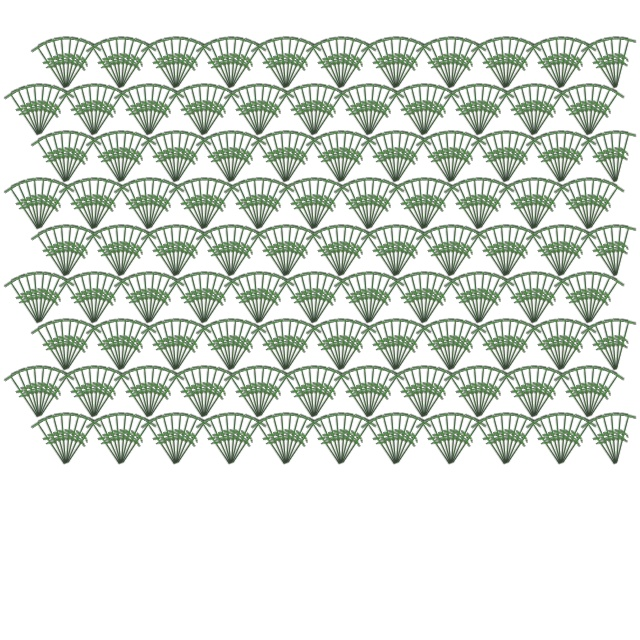fan: (29, 39, 75, 95), (59, 39, 105, 95), (84, 39, 130, 95), (114, 39, 160, 95), (139, 39, 185, 95), (169, 39, 215, 95), (194, 39, 240, 95), (224, 39, 270, 95), (249, 39, 295, 95), (279, 39, 325, 95), (304, 39, 350, 95), (334, 39, 380, 95), (359, 39, 405, 95), (389, 39, 435, 95), (414, 39, 460, 95), (444, 39, 490, 95), (469, 39, 515, 95), (499, 39, 545, 95), (524, 39, 570, 95), (554, 39, 600, 95), (579, 39, 625, 95), (2, 86, 48, 142), (32, 86, 78, 142), (57, 86, 103, 142), (87, 86, 133, 142), (112, 86, 158, 142), (142, 86, 188, 142), (167, 86, 213, 142), (197, 86, 243, 142), (222, 86, 268, 142), (252, 86, 298, 142), (277, 86, 323, 142), (307, 86, 353, 142), (332, 86, 378, 142), (362, 86, 408, 142), (387, 86, 433, 142), (417, 86, 463, 142), (442, 86, 488, 142), (472, 86, 518, 142), (497, 86, 543, 142), (527, 86, 573, 142), (552, 86, 598, 142), (582, 86, 628, 142), (29, 133, 75, 189), (59, 133, 105, 189), (84, 133, 130, 189), (114, 133, 160, 189), (139, 133, 185, 189), (169, 133, 215, 189), (194, 133, 240, 189), (224, 133, 270, 189), (249, 133, 295, 189), (279, 133, 325, 189), (304, 133, 350, 189), (334, 133, 380, 189), (359, 133, 405, 189), (389, 133, 435, 189), (414, 133, 460, 189), (444, 133, 490, 189), (469, 133, 515, 189), (499, 133, 545, 189), (524, 133, 570, 189), (554, 133, 600, 189), (579, 133, 625, 189), (2, 180, 48, 236), (32, 180, 78, 236), (57, 180, 103, 236), (87, 180, 133, 236), (112, 180, 158, 236), (142, 180, 188, 236), (167, 180, 213, 236), (197, 180, 243, 236), (222, 180, 268, 236), (252, 180, 298, 236), (277, 180, 323, 236), (307, 180, 353, 236), (332, 180, 378, 236), (362, 180, 408, 236), (387, 180, 433, 236), (417, 180, 463, 236), (442, 180, 488, 236), (472, 180, 518, 236), (497, 180, 543, 236), (527, 180, 573, 236), (552, 180, 598, 236), (582, 180, 628, 236), (29, 227, 75, 283), (59, 227, 105, 283), (84, 227, 130, 283), (114, 227, 160, 283), (139, 227, 185, 283), (169, 227, 215, 283), (194, 227, 240, 283), (224, 227, 270, 283), (249, 227, 295, 283), (279, 227, 325, 283), (304, 227, 350, 283), (334, 227, 380, 283), (359, 227, 405, 283), (389, 227, 435, 283), (414, 227, 460, 283), (444, 227, 490, 283), (469, 227, 515, 283), (499, 227, 545, 283), (524, 227, 570, 283), (554, 227, 600, 283), (579, 227, 625, 283), (2, 274, 48, 330), (32, 274, 78, 330), (57, 274, 103, 330), (87, 274, 133, 330), (112, 274, 158, 330), (142, 274, 188, 330), (167, 274, 213, 330), (197, 274, 243, 330), (222, 274, 268, 330), (252, 274, 298, 330), (277, 274, 323, 330), (307, 274, 353, 330), (332, 274, 378, 330), (362, 274, 408, 330), (387, 274, 433, 330), (417, 274, 463, 330), (442, 274, 488, 330), (472, 274, 518, 330), (497, 274, 543, 330), (527, 274, 573, 330), (552, 274, 598, 330), (582, 274, 628, 330), (29, 321, 75, 377), (59, 321, 105, 377), (84, 321, 130, 377), (114, 321, 160, 377), (139, 321, 185, 377), (169, 321, 215, 377), (194, 321, 240, 377), (224, 321, 270, 377), (249, 321, 295, 377), (279, 321, 325, 377), (304, 321, 350, 377), (334, 321, 380, 377), (359, 321, 405, 377), (389, 321, 435, 377), (414, 321, 460, 377), (444, 321, 490, 377), (469, 321, 515, 377), (499, 321, 545, 377), (524, 321, 570, 377), (554, 321, 600, 377), (579, 321, 625, 377), (2, 368, 48, 424), (32, 368, 78, 424), (57, 368, 103, 424), (87, 368, 133, 424), (112, 368, 158, 424), (142, 368, 188, 424), (167, 368, 213, 424), (197, 368, 243, 424), (222, 368, 268, 424), (252, 368, 298, 424), (277, 368, 323, 424), (307, 368, 353, 424), (332, 368, 378, 424), (362, 368, 408, 424), (387, 368, 433, 424), (417, 368, 463, 424), (442, 368, 488, 424), (472, 368, 518, 424), (497, 368, 543, 424), (527, 368, 573, 424), (552, 368, 598, 424), (582, 368, 628, 424), (29, 415, 75, 471), (59, 415, 105, 471), (84, 415, 130, 471), (114, 415, 160, 471), (139, 415, 185, 471), (169, 415, 215, 471), (194, 415, 240, 471), (224, 415, 270, 471), (249, 415, 295, 471), (279, 415, 325, 471), (304, 415, 350, 471), (334, 415, 380, 471), (359, 415, 405, 471), (389, 415, 435, 471), (414, 415, 460, 471), (444, 415, 490, 471), (469, 415, 515, 471), (499, 415, 545, 471), (524, 415, 570, 471), (554, 415, 600, 471), (579, 415, 625, 471), (36, 36, 76, 93), (58, 36, 98, 93), (91, 36, 131, 93), (113, 36, 153, 93), (146, 36, 186, 93), (168, 36, 208, 93), (201, 36, 241, 93), (223, 36, 263, 93), (256, 36, 296, 93), (278, 36, 318, 93), (311, 36, 351, 93), (333, 36, 373, 93), (366, 36, 406, 93), (388, 36, 428, 93), (421, 36, 461, 93), (443, 36, 483, 93), (476, 36, 516, 93), (498, 36, 538, 93), (531, 36, 571, 93), (553, 36, 593, 93), (586, 36, 626, 93), (9, 83, 49, 140), (31, 83, 71, 140), (64, 83, 104, 140), (86, 83, 126, 140), (119, 83, 159, 140), (141, 83, 181, 140), (174, 83, 214, 140), (196, 83, 236, 140), (229, 83, 269, 140), (251, 83, 291, 140), (284, 83, 324, 140), (306, 83, 346, 140), (339, 83, 379, 140), (361, 83, 401, 140), (394, 83, 434, 140), (416, 83, 456, 140), (449, 83, 489, 140), (471, 83, 511, 140), (504, 83, 544, 140), (526, 83, 566, 140), (559, 83, 599, 140), (581, 83, 621, 140), (36, 130, 76, 187), (58, 130, 98, 187), (91, 130, 131, 187), (113, 130, 153, 187), (146, 130, 186, 187), (168, 130, 208, 187), (201, 130, 241, 187), (223, 130, 263, 187), (256, 130, 296, 187), (278, 130, 318, 187), (311, 130, 351, 187), (333, 130, 373, 187), (366, 130, 406, 187), (388, 130, 428, 187), (421, 130, 461, 187), (443, 130, 483, 187), (476, 130, 516, 187), (498, 130, 538, 187), (531, 130, 571, 187), (553, 130, 593, 187), (586, 130, 626, 187), (9, 177, 49, 234), (31, 177, 71, 234), (64, 177, 104, 234), (86, 177, 126, 234), (119, 177, 159, 234), (141, 177, 181, 234), (174, 177, 214, 234), (196, 177, 236, 234), (229, 177, 269, 234), (251, 177, 291, 234), (284, 177, 324, 234), (306, 177, 346, 234), (339, 177, 379, 234), (361, 177, 401, 234), (394, 177, 434, 234), (416, 177, 456, 234), (449, 177, 489, 234), (471, 177, 511, 234), (504, 177, 544, 234), (526, 177, 566, 234), (559, 177, 599, 234), (581, 177, 621, 234), (36, 224, 76, 281), (58, 224, 98, 281), (91, 224, 131, 281), (113, 224, 153, 281), (146, 224, 186, 281), (168, 224, 208, 281), (201, 224, 241, 281), (223, 224, 263, 281), (256, 224, 296, 281), (278, 224, 318, 281), (311, 224, 351, 281), (333, 224, 373, 281), (366, 224, 406, 281), (388, 224, 428, 281), (421, 224, 461, 281), (443, 224, 483, 281), (476, 224, 516, 281), (498, 224, 538, 281), (531, 224, 571, 281), (553, 224, 593, 281), (586, 224, 626, 281), (9, 271, 49, 328), (31, 271, 71, 328), (64, 271, 104, 328), (86, 271, 126, 328), (119, 271, 159, 328), (141, 271, 181, 328), (174, 271, 214, 328), (196, 271, 236, 328), (229, 271, 269, 328), (251, 271, 291, 328), (284, 271, 324, 328), (306, 271, 346, 328), (339, 271, 379, 328), (361, 271, 401, 328), (394, 271, 434, 328), (416, 271, 456, 328), (449, 271, 489, 328), (471, 271, 511, 328), (504, 271, 544, 328), (526, 271, 566, 328), (559, 271, 599, 328), (581, 271, 621, 328), (36, 318, 76, 375), (58, 318, 98, 375), (91, 318, 131, 375), (113, 318, 153, 375), (146, 318, 186, 375), (168, 318, 208, 375), (201, 318, 241, 375), (223, 318, 263, 375), (256, 318, 296, 375), (278, 318, 318, 375), (311, 318, 351, 375), (333, 318, 373, 375), (366, 318, 406, 375), (388, 318, 428, 375), (421, 318, 461, 375), (443, 318, 483, 375), (476, 318, 516, 375), (498, 318, 538, 375), (531, 318, 571, 375), (553, 318, 593, 375), (586, 318, 626, 375), (9, 365, 49, 422), (31, 365, 71, 422), (64, 365, 104, 422), (86, 365, 126, 422), (119, 365, 159, 422), (141, 365, 181, 422), (174, 365, 214, 422), (196, 365, 236, 422), (229, 365, 269, 422), (251, 365, 291, 422), (284, 365, 324, 422), (306, 365, 346, 422), (339, 365, 379, 422), (361, 365, 401, 422), (394, 365, 434, 422), (416, 365, 456, 422), (449, 365, 489, 422), (471, 365, 511, 422), (504, 365, 544, 422), (526, 365, 566, 422), (559, 365, 599, 422), (581, 365, 621, 422), (36, 412, 76, 469), (58, 412, 98, 469), (91, 412, 131, 469), (113, 412, 153, 469), (146, 412, 186, 469), (168, 412, 208, 469), (201, 412, 241, 469), (223, 412, 263, 469), (256, 412, 296, 469), (278, 412, 318, 469), (311, 412, 351, 469), (333, 412, 373, 469), (366, 412, 406, 469), (388, 412, 428, 469), (421, 412, 461, 469), (443, 412, 483, 469), (476, 412, 516, 469), (498, 412, 538, 469), (531, 412, 571, 469), (553, 412, 593, 469), (586, 412, 626, 469), (44, 35, 77, 91), (57, 35, 90, 91), (99, 35, 132, 91), (112, 35, 145, 91), (154, 35, 187, 91), (167, 35, 200, 91), (209, 35, 242, 91), (222, 35, 255, 91), (264, 35, 297, 91), (277, 35, 310, 91), (319, 35, 352, 91), (332, 35, 365, 91), (374, 35, 407, 91), (387, 35, 420, 91), (429, 35, 462, 91), (442, 35, 475, 91), (484, 35, 517, 91), (497, 35, 530, 91), (539, 35, 572, 91), (552, 35, 585, 91), (594, 35, 627, 91), (607, 35, 640, 91), (17, 82, 50, 138), (30, 82, 63, 138), (72, 82, 105, 138), (85, 82, 118, 138), (127, 82, 160, 138), (140, 82, 173, 138), (182, 82, 215, 138), (195, 82, 228, 138), (237, 82, 270, 138), (250, 82, 283, 138), (292, 82, 325, 138), (305, 82, 338, 138), (347, 82, 380, 138), (360, 82, 393, 138), (402, 82, 435, 138), (415, 82, 448, 138), (457, 82, 490, 138), (470, 82, 503, 138), (512, 82, 545, 138), (525, 82, 558, 138), (567, 82, 600, 138), (580, 82, 613, 138), (44, 129, 77, 185), (57, 129, 90, 185), (99, 129, 132, 185), (112, 129, 145, 185), (154, 129, 187, 185), (167, 129, 200, 185), (209, 129, 242, 185), (222, 129, 255, 185), (264, 129, 297, 185), (277, 129, 310, 185), (319, 129, 352, 185), (332, 129, 365, 185), (374, 129, 407, 185), (387, 129, 420, 185), (429, 129, 462, 185), (442, 129, 475, 185), (484, 129, 517, 185), (497, 129, 530, 185), (539, 129, 572, 185), (552, 129, 585, 185), (594, 129, 627, 185), (607, 129, 640, 185), (17, 176, 50, 232), (30, 176, 63, 232), (72, 176, 105, 232), (85, 176, 118, 232), (127, 176, 160, 232), (140, 176, 173, 232), (182, 176, 215, 232), (195, 176, 228, 232), (237, 176, 270, 232), (250, 176, 283, 232), (292, 176, 325, 232), (305, 176, 338, 232), (347, 176, 380, 232), (360, 176, 393, 232), (402, 176, 435, 232), (415, 176, 448, 232), (457, 176, 490, 232), (470, 176, 503, 232), (512, 176, 545, 232), (525, 176, 558, 232), (567, 176, 600, 232), (580, 176, 613, 232), (44, 223, 77, 279), (57, 223, 90, 279), (99, 223, 132, 279), (112, 223, 145, 279), (154, 223, 187, 279), (167, 223, 200, 279), (209, 223, 242, 279), (222, 223, 255, 279), (264, 223, 297, 279), (277, 223, 310, 279), (319, 223, 352, 279), (332, 223, 365, 279), (374, 223, 407, 279), (387, 223, 420, 279), (429, 223, 462, 279), (442, 223, 475, 279), (484, 223, 517, 279), (497, 223, 530, 279), (539, 223, 572, 279), (552, 223, 585, 279), (594, 223, 627, 279), (607, 223, 640, 279), (17, 270, 50, 326), (30, 270, 63, 326), (72, 270, 105, 326), (85, 270, 118, 326), (127, 270, 160, 326), (140, 270, 173, 326), (182, 270, 215, 326), (195, 270, 228, 326), (237, 270, 270, 326), (250, 270, 283, 326), (292, 270, 325, 326), (305, 270, 338, 326), (347, 270, 380, 326), (360, 270, 393, 326), (402, 270, 435, 326), (415, 270, 448, 326), (457, 270, 490, 326), (470, 270, 503, 326), (512, 270, 545, 326), (525, 270, 558, 326), (567, 270, 600, 326), (580, 270, 613, 326), (44, 317, 77, 373), (57, 317, 90, 373), (99, 317, 132, 373), (112, 317, 145, 373), (154, 317, 187, 373), (167, 317, 200, 373), (209, 317, 242, 373), (222, 317, 255, 373), (264, 317, 297, 373), (277, 317, 310, 373), (319, 317, 352, 373), (332, 317, 365, 373), (374, 317, 407, 373), (387, 317, 420, 373), (429, 317, 462, 373), (442, 317, 475, 373), (484, 317, 517, 373), (497, 317, 530, 373), (539, 317, 572, 373), (552, 317, 585, 373), (594, 317, 627, 373), (607, 317, 640, 373), (17, 364, 50, 420), (30, 364, 63, 420), (72, 364, 105, 420), (85, 364, 118, 420), (127, 364, 160, 420), (140, 364, 173, 420), (182, 364, 215, 420), (195, 364, 228, 420), (237, 364, 270, 420), (250, 364, 283, 420), (292, 364, 325, 420), (305, 364, 338, 420), (347, 364, 380, 420), (360, 364, 393, 420), (402, 364, 435, 420), (415, 364, 448, 420), (457, 364, 490, 420), (470, 364, 503, 420), (512, 364, 545, 420), (525, 364, 558, 420), (567, 364, 600, 420), (580, 364, 613, 420), (44, 411, 77, 467), (57, 411, 90, 467), (99, 411, 132, 467), (112, 411, 145, 467), (154, 411, 187, 467), (167, 411, 200, 467), (209, 411, 242, 467), (222, 411, 255, 467), (264, 411, 297, 467), (277, 411, 310, 467), (319, 411, 352, 467), (332, 411, 365, 467), (374, 411, 407, 467), (387, 411, 420, 467), (429, 411, 462, 467), (442, 411, 475, 467), (484, 411, 517, 467), (497, 411, 530, 467), (539, 411, 572, 467), (552, 411, 585, 467), (594, 411, 627, 467), (607, 411, 640, 467), (53, 35, 77, 90), (57, 35, 81, 90), (108, 35, 132, 90), (112, 35, 136, 90), (163, 35, 187, 90), (167, 35, 191, 90), (218, 35, 242, 90), (222, 35, 246, 90), (273, 35, 297, 90), (277, 35, 301, 90), (328, 35, 352, 90), (332, 35, 356, 90), (383, 35, 407, 90), (387, 35, 411, 90), (438, 35, 462, 90), (442, 35, 466, 90), (493, 35, 517, 90), (497, 35, 521, 90), (548, 35, 572, 90), (552, 35, 576, 90), (603, 35, 627, 90), (607, 35, 631, 90), (26, 82, 50, 137), (30, 82, 54, 137), (81, 82, 105, 137), (85, 82, 109, 137), (136, 82, 160, 137), (140, 82, 164, 137), (191, 82, 215, 137), (195, 82, 219, 137), (246, 82, 270, 137), (250, 82, 274, 137), (301, 82, 325, 137), (305, 82, 329, 137), (356, 82, 380, 137), (360, 82, 384, 137), (411, 82, 435, 137), (415, 82, 439, 137), (466, 82, 490, 137), (470, 82, 494, 137), (521, 82, 545, 137), (525, 82, 549, 137), (576, 82, 600, 137), (580, 82, 604, 137), (53, 129, 77, 184), (57, 129, 81, 184), (108, 129, 132, 184), (112, 129, 136, 184), (163, 129, 187, 184), (167, 129, 191, 184), (218, 129, 242, 184), (222, 129, 246, 184), (273, 129, 297, 184), (277, 129, 301, 184), (328, 129, 352, 184), (332, 129, 356, 184), (383, 129, 407, 184), (387, 129, 411, 184), (438, 129, 462, 184), (442, 129, 466, 184), (493, 129, 517, 184), (497, 129, 521, 184), (548, 129, 572, 184), (552, 129, 576, 184), (603, 129, 627, 184), (607, 129, 631, 184), (26, 176, 50, 231), (30, 176, 54, 231), (81, 176, 105, 231), (85, 176, 109, 231), (136, 176, 160, 231), (140, 176, 164, 231), (191, 176, 215, 231), (195, 176, 219, 231), (246, 176, 270, 231), (250, 176, 274, 231), (301, 176, 325, 231), (305, 176, 329, 231), (356, 176, 380, 231), (360, 176, 384, 231), (411, 176, 435, 231), (415, 176, 439, 231), (466, 176, 490, 231), (470, 176, 494, 231), (521, 176, 545, 231), (525, 176, 549, 231), (576, 176, 600, 231), (580, 176, 604, 231), (53, 223, 77, 278), (57, 223, 81, 278), (108, 223, 132, 278), (112, 223, 136, 278), (163, 223, 187, 278), (167, 223, 191, 278), (218, 223, 242, 278), (222, 223, 246, 278), (273, 223, 297, 278), (277, 223, 301, 278), (328, 223, 352, 278), (332, 223, 356, 278), (383, 223, 407, 278), (387, 223, 411, 278), (438, 223, 462, 278), (442, 223, 466, 278), (493, 223, 517, 278), (497, 223, 521, 278), (548, 223, 572, 278), (552, 223, 576, 278), (603, 223, 627, 278), (607, 223, 631, 278), (26, 270, 50, 325), (30, 270, 54, 325), (81, 270, 105, 325), (85, 270, 109, 325), (136, 270, 160, 325), (140, 270, 164, 325), (191, 270, 215, 325), (195, 270, 219, 325), (246, 270, 270, 325), (250, 270, 274, 325), (301, 270, 325, 325), (305, 270, 329, 325), (356, 270, 380, 325), (360, 270, 384, 325), (411, 270, 435, 325), (415, 270, 439, 325), (466, 270, 490, 325), (470, 270, 494, 325), (521, 270, 545, 325), (525, 270, 549, 325), (576, 270, 600, 325), (580, 270, 604, 325), (53, 317, 77, 372), (57, 317, 81, 372), (108, 317, 132, 372), (112, 317, 136, 372), (163, 317, 187, 372), (167, 317, 191, 372), (218, 317, 242, 372), (222, 317, 246, 372), (273, 317, 297, 372), (277, 317, 301, 372), (328, 317, 352, 372), (332, 317, 356, 372), (383, 317, 407, 372), (387, 317, 411, 372), (438, 317, 462, 372), (442, 317, 466, 372), (493, 317, 517, 372), (497, 317, 521, 372), (548, 317, 572, 372), (552, 317, 576, 372), (603, 317, 627, 372), (607, 317, 631, 372), (26, 364, 50, 419), (30, 364, 54, 419), (81, 364, 105, 419), (85, 364, 109, 419), (136, 364, 160, 419), (140, 364, 164, 419), (191, 364, 215, 419), (195, 364, 219, 419), (246, 364, 270, 419), (250, 364, 274, 419), (301, 364, 325, 419), (305, 364, 329, 419), (356, 364, 380, 419), (360, 364, 384, 419), (411, 364, 435, 419), (415, 364, 439, 419), (466, 364, 490, 419), (470, 364, 494, 419), (521, 364, 545, 419), (525, 364, 549, 419), (576, 364, 600, 419), (580, 364, 604, 419), (53, 411, 77, 466), (57, 411, 81, 466), (108, 411, 132, 466), (112, 411, 136, 466), (163, 411, 187, 466), (167, 411, 191, 466), (218, 411, 242, 466), (222, 411, 246, 466), (273, 411, 297, 466), (277, 411, 301, 466), (328, 411, 352, 466), (332, 411, 356, 466), (383, 411, 407, 466), (387, 411, 411, 466), (438, 411, 462, 466), (442, 411, 466, 466), (493, 411, 517, 466), (497, 411, 521, 466), (548, 411, 572, 466), (552, 411, 576, 466), (603, 411, 627, 466), (607, 411, 631, 466)
